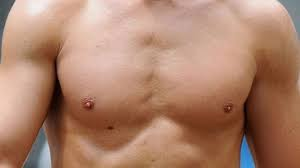mole: (103, 122, 118, 134)
